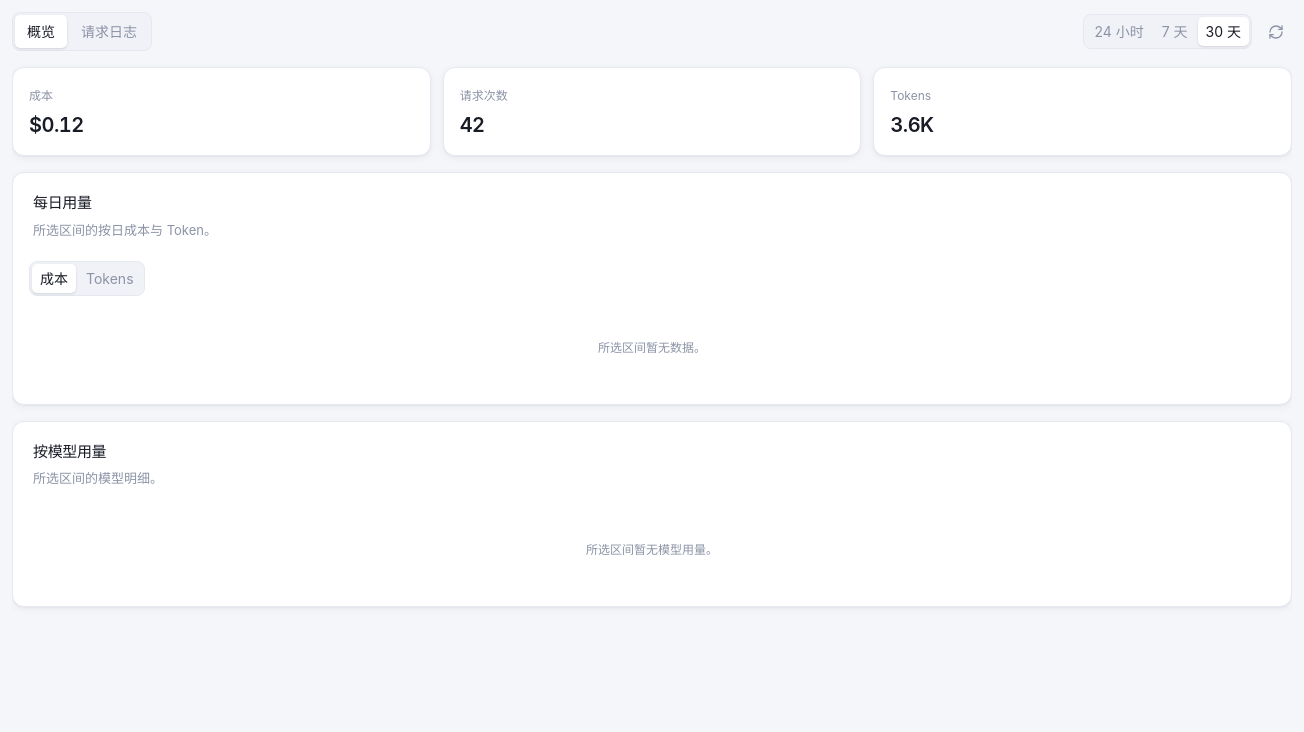
Test: OpenCodeStats › 渲染概览指标，并切到请求日志页签
Expected: the text "42" is shown, [460,113,485,137]
Expected: the text "$0.12" is shown, [29,111,84,139]
What coordinates should you click on to do the following:
click the tab "请求日志"
I would click on:
 (109, 32)
Its box is [69,15,149,48].
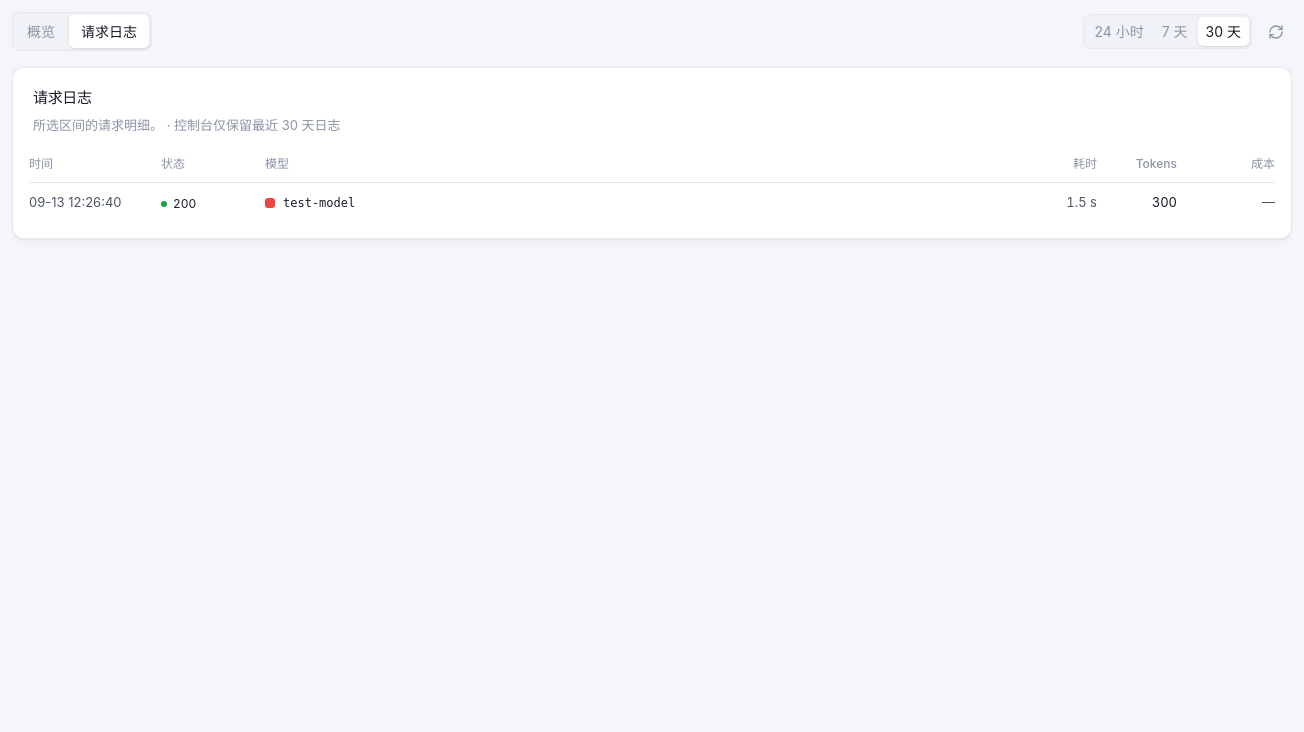
Now the text "test-model" is shown, box [283,196,355,210]
Now the text "—" is shown, box [1193,182,1275,222]
Now the text "所选区间的请求明细。 · 控制台仅保留最近 30 天日志" is shown, box [33,117,341,133]
